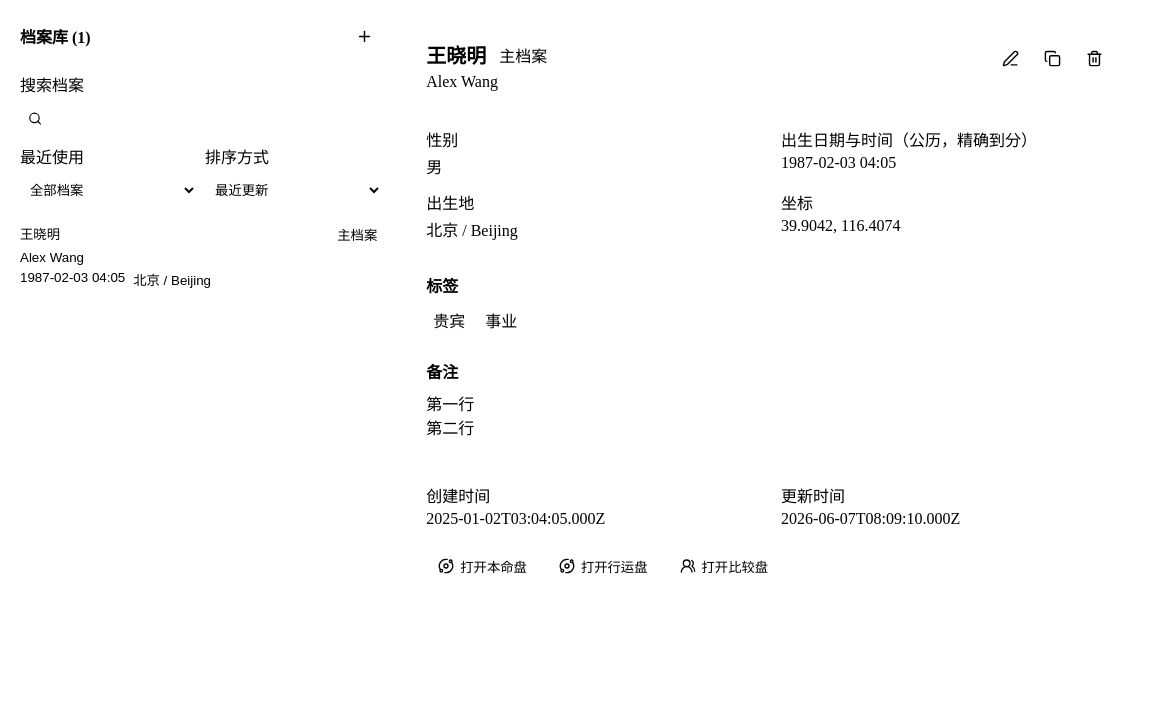
it: uses language-specific duplicate suffixes for bilingual names
Check: the heading "王晓明" is shown, box [426,40,486,69]
Click the button named "复制档案" at (1052, 58), box [1034,40,1070,76]
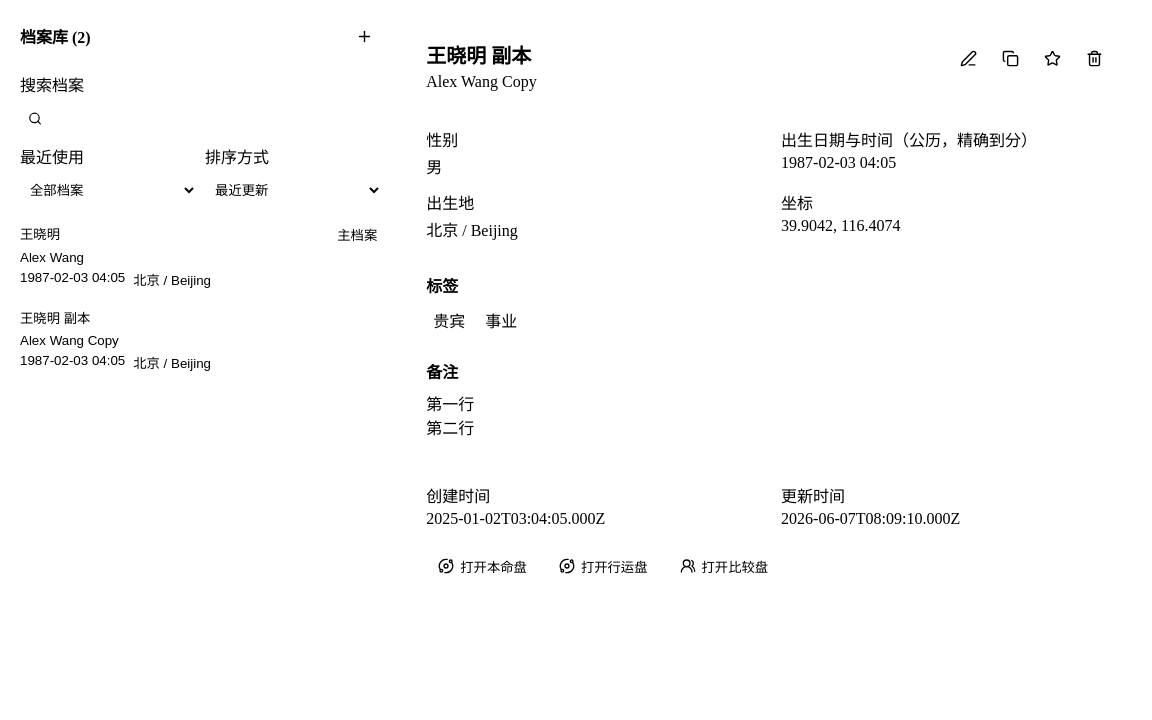
Check: the heading "王晓明 副本" is shown, box [426,40,531,69]
